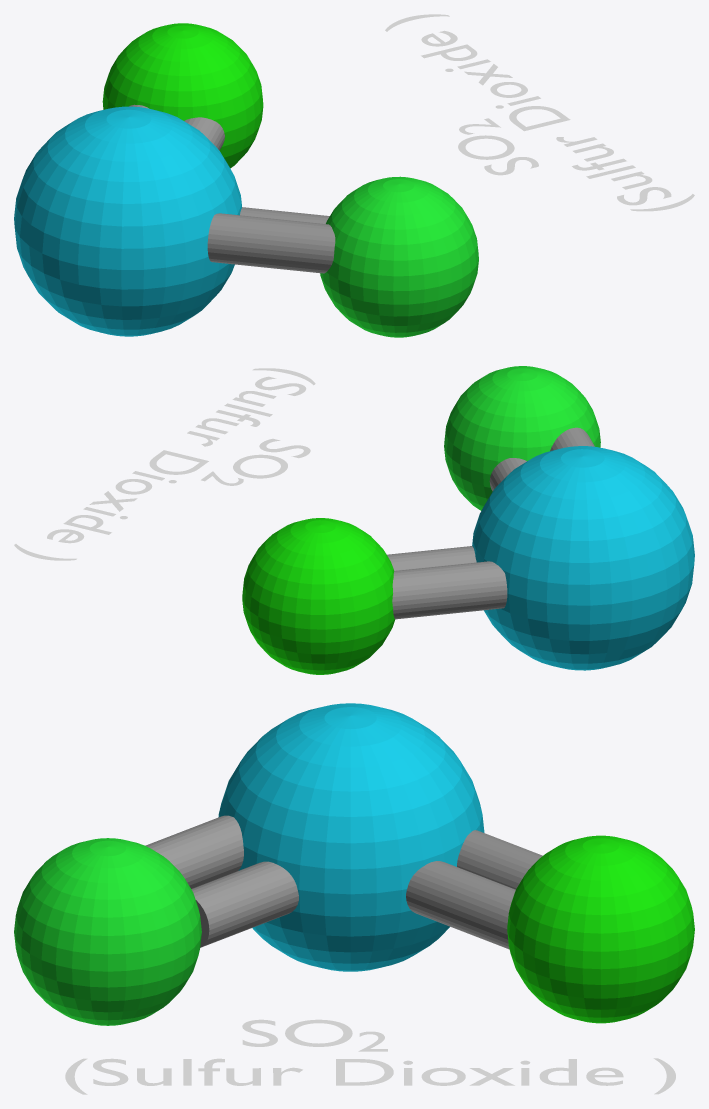
File: Sulphur Dioxide.fbx
3 views of the same model, one above another, from view 1: azimuth 30°, elevation 25°; view 2: azimuth 150°, elevation 25°; view 3: azimuth 270°, elevation 25° (orthographic). The views are drawn at different scales.
Visible parts, largest first — view 1: Sphere, Sphere.002, Sphere.001, Cylinder, Text, Cylinder.002, Cylinder.005; view 2: Sphere, Sphere.001, Sphere.002, Cylinder.004, Text, Cylinder.005, Cylinder, Cylinder.002; view 3: Sphere, Sphere.002, Sphere.001, Text, Cylinder.005, Cylinder.002, Cylinder, Cylinder.004.
Part boxes in pixels (<box>): Sphere: <box>14,106,241,336</box>; Sphere.002: <box>320,176,478,337</box>; Sphere.001: <box>102,23,263,168</box>; Cylinder: <box>207,213,335,273</box>; Text: <box>385,14,694,211</box>; Cylinder.002: <box>240,207,329,223</box>; Cylinder.005: <box>184,117,224,150</box>; Sphere: <box>472,446,694,670</box>; Sphere.001: <box>242,518,395,674</box>; Sphere.002: <box>444,366,600,510</box>; Cylinder.004: <box>392,561,507,619</box>; Text: <box>14,368,315,560</box>; Cylinder.005: <box>387,546,476,570</box>; Cylinder: <box>550,427,594,451</box>; Cylinder.002: <box>489,458,526,491</box>; Sphere: <box>218,703,484,971</box>; Sphere.002: <box>14,838,201,1025</box>; Sphere.001: <box>507,835,694,1023</box>; Text: <box>65,1019,675,1094</box>; Cylinder.005: <box>406,861,515,949</box>; Cylinder.002: <box>191,861,298,947</box>; Cylinder: <box>145,815,243,888</box>; Cylinder.004: <box>457,830,542,889</box>.
Size of the model in its own units: 806 by 292 by 739.
